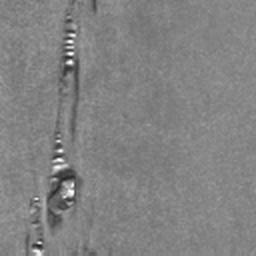Slag inclusion: (24, 0, 84, 256), (68, 239, 102, 256), (90, 0, 99, 14)
